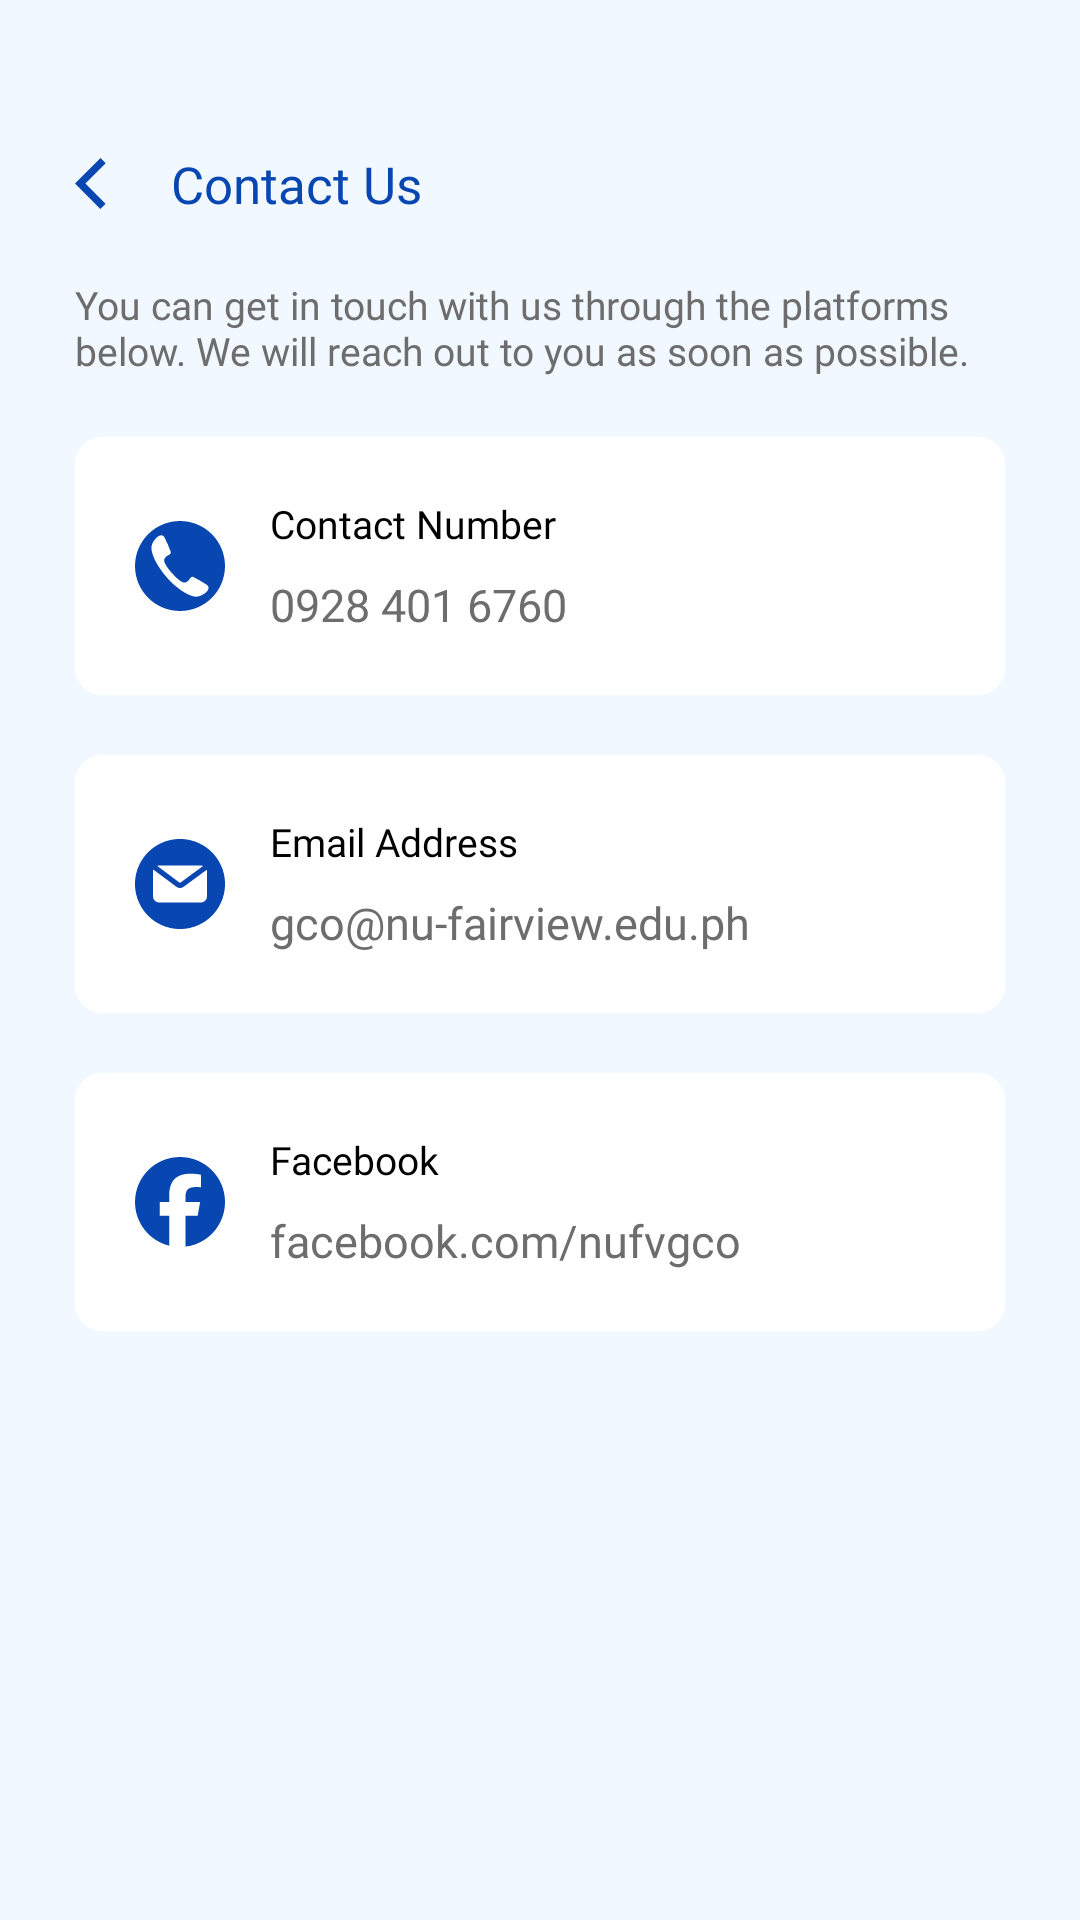

Icon click points for this 1080 × 1920 phone screenshot, format point (x, y):
profile call: point (180, 566)
profile email: point (180, 884)
return: point (90, 183)
